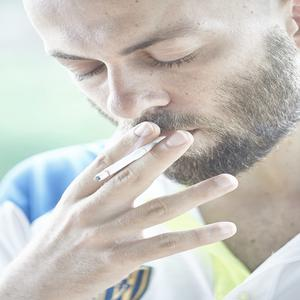cigarette: (94, 133, 171, 185)
